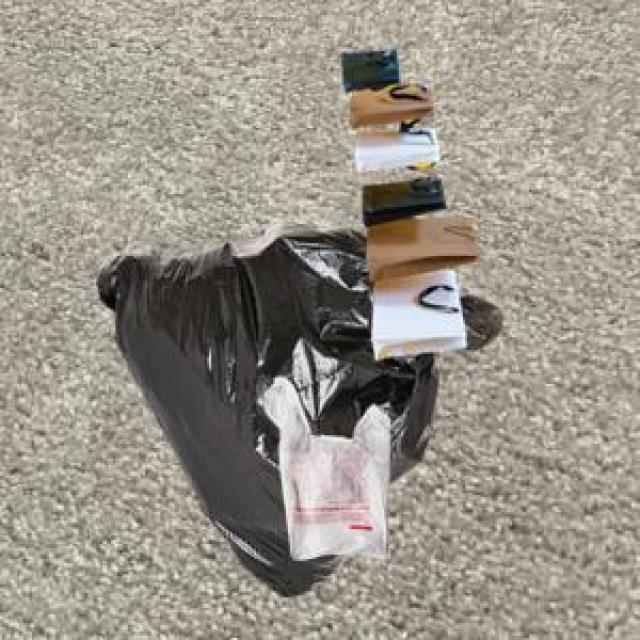miscellaneous trash: (94, 218, 497, 593)
paper: (339, 47, 476, 356)
